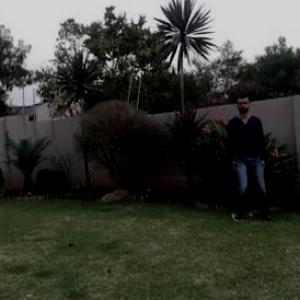follow: (227, 92, 265, 222)
